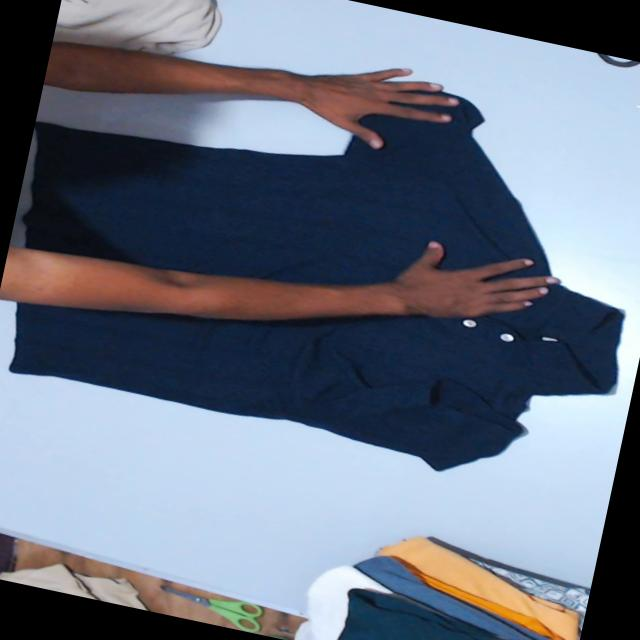new-garment: (9, 285, 622, 469), (24, 98, 549, 282)
